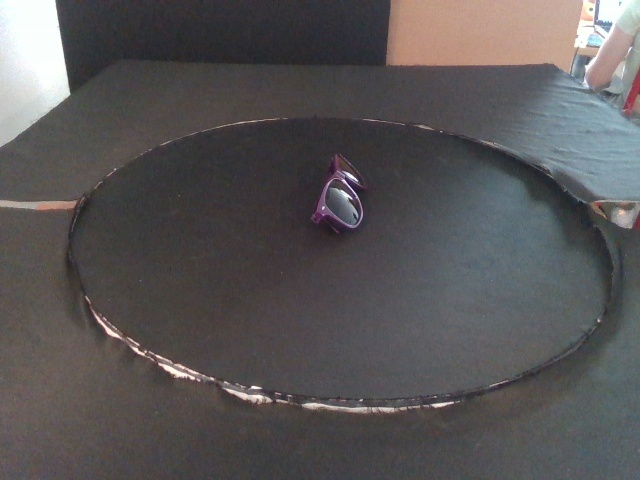glasses: (309, 152, 368, 235)
